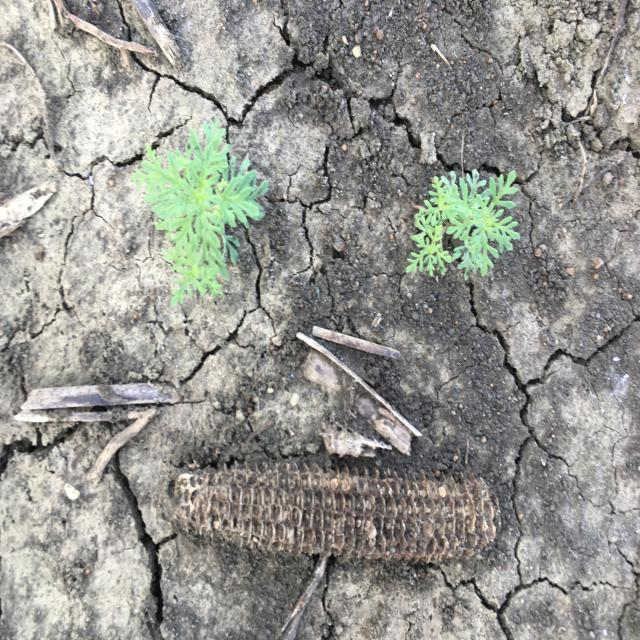Ragweed: (129, 118, 271, 310), (404, 167, 522, 281)
